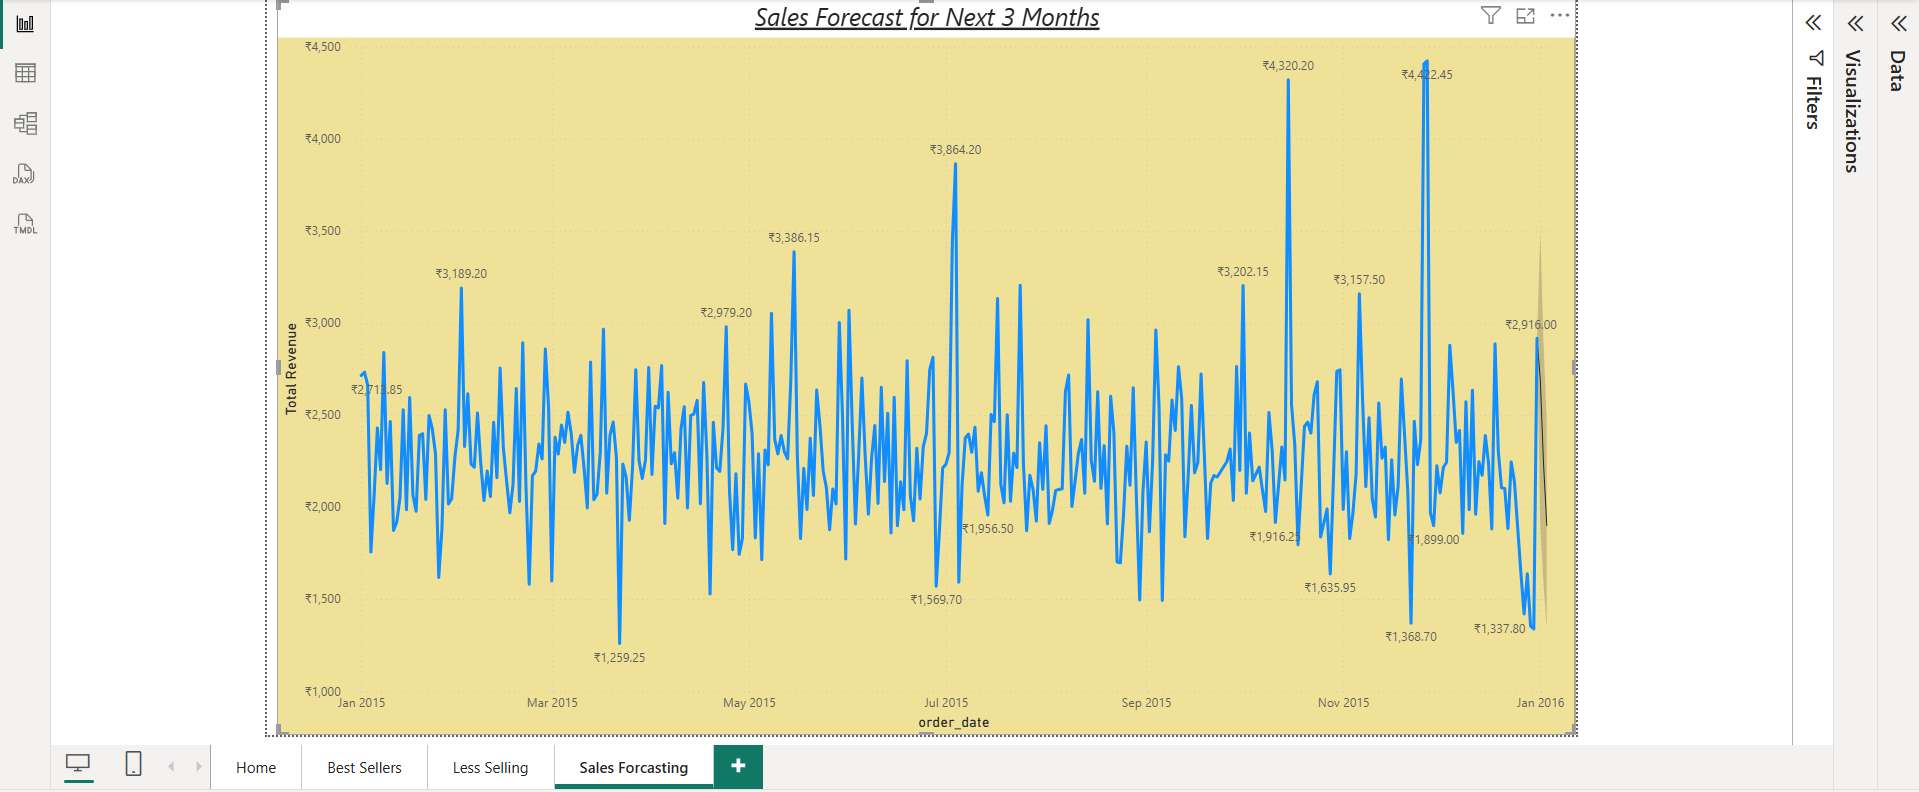

The page's visual inventory and layout, read from the dashboard file:
{"tool":"powerbi","page":{"name":"Sales Forcasting","canvas":[1280,720],"ordinal":3},"visuals":[{"type":"lineChart","title":"Sales Forecast for Next 3 Months","fields":{"Y":["pizza_sales.Total Revenue"],"Category":["pizza_sales.order_date"]},"box":[9.8,0,1270.5,720.2],"z":0}]}

Visuals, with their boxes on the page's 1280x720 design canvas (x1, y1, x2, y2). These are canvas units, not pixel positions in the 1919x792 screenshot, which may show the page scaled, cropped or inside an application window:
"Sales Forecast for Next 3 Months" lineChart: detection(10, 0, 1280, 720)
